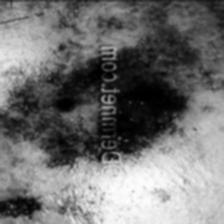Potentially Malignant Skin Tumors: (120, 84, 174, 142)
